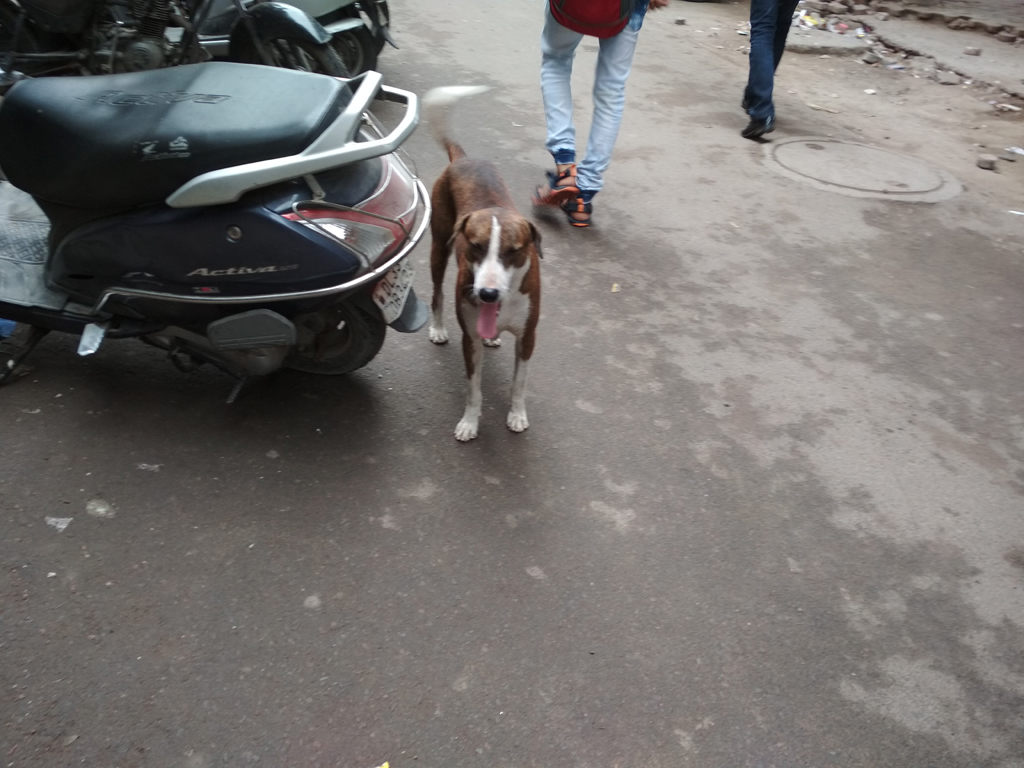dog: (429, 101, 545, 442)
